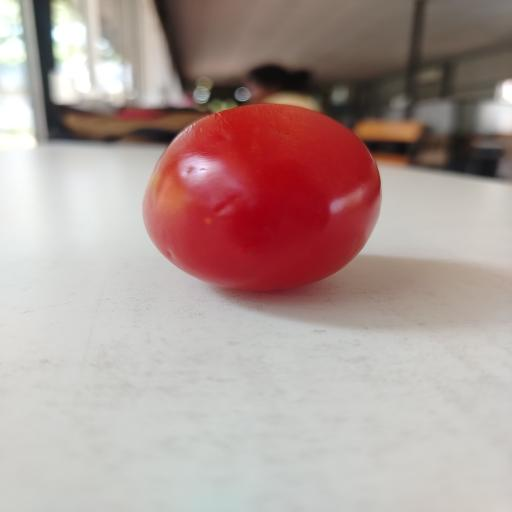ripe: (144, 104, 381, 290)
